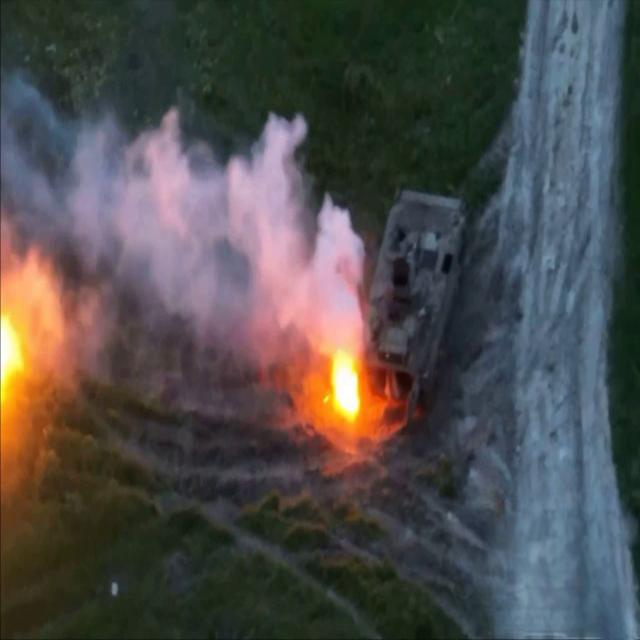AIFV: (355, 185, 467, 411)
